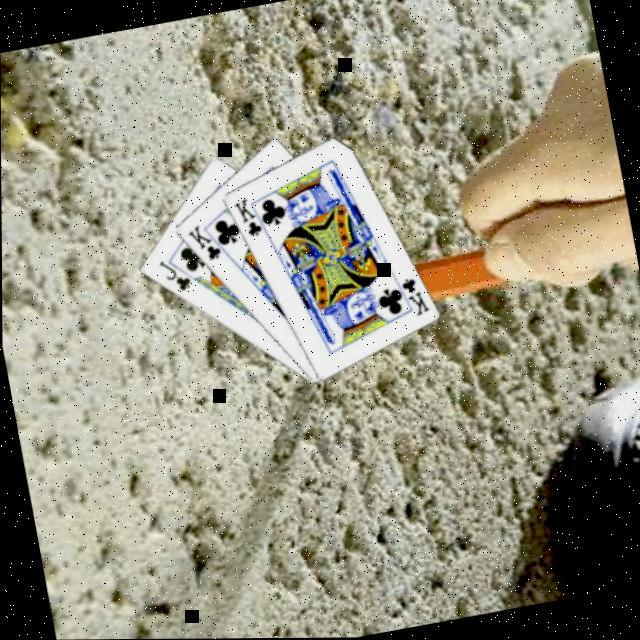JC: (155, 250, 195, 295)
KC: (183, 214, 232, 263), (230, 189, 272, 240), (392, 268, 433, 319)
